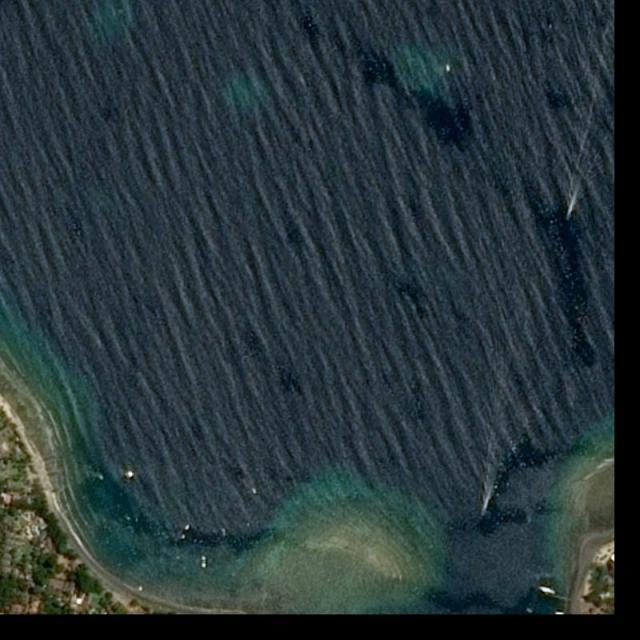ship: (479, 502, 487, 517), (200, 556, 208, 570), (182, 522, 192, 533), (564, 212, 573, 222), (97, 474, 106, 482)
